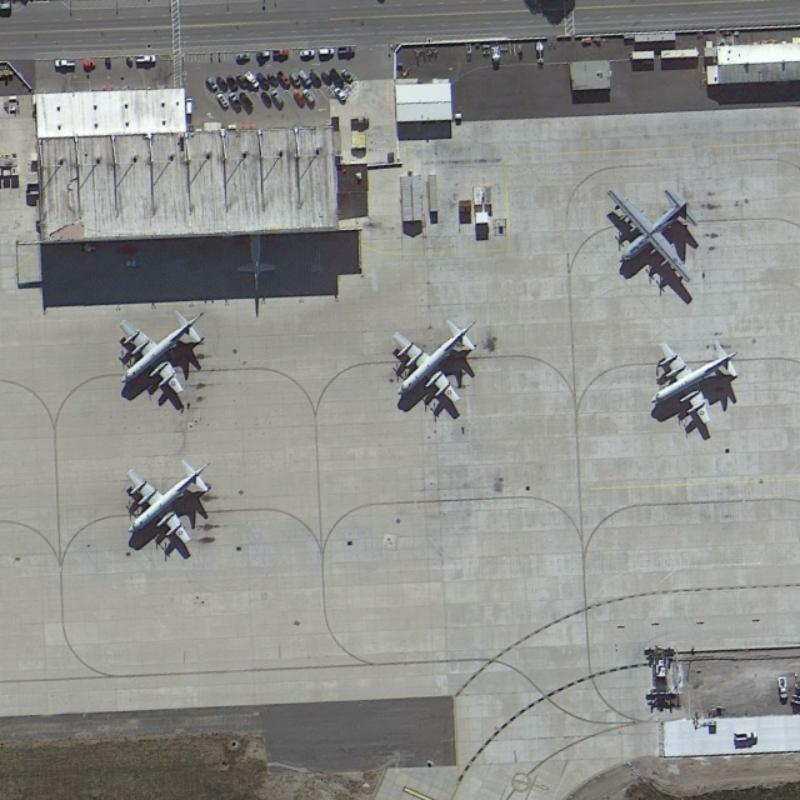A14: (599, 179, 704, 291)
A9: (116, 451, 215, 555), (640, 330, 742, 430), (109, 303, 207, 405), (384, 315, 479, 408)
